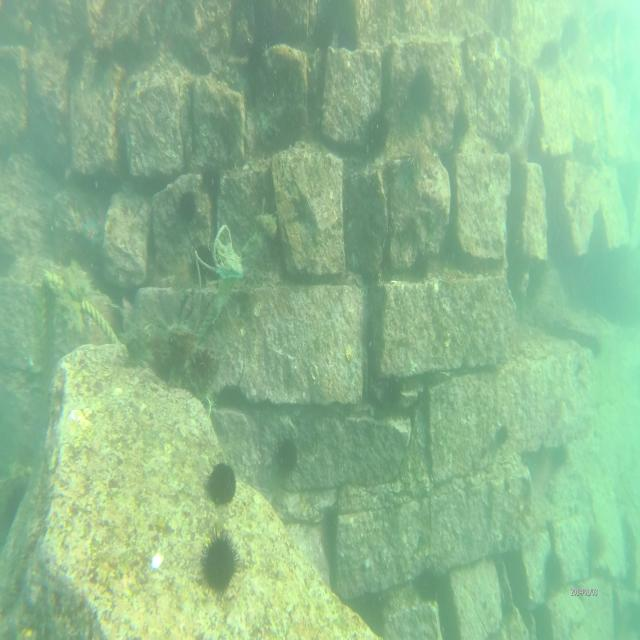echinus: (196, 524, 245, 600), (407, 61, 439, 115), (365, 102, 393, 158), (207, 460, 239, 508), (272, 434, 302, 481), (402, 130, 432, 173), (415, 566, 441, 609), (560, 11, 581, 55), (538, 34, 560, 76), (178, 187, 198, 223), (454, 107, 474, 142), (494, 421, 514, 448)
starfish: (81, 213, 105, 250)
